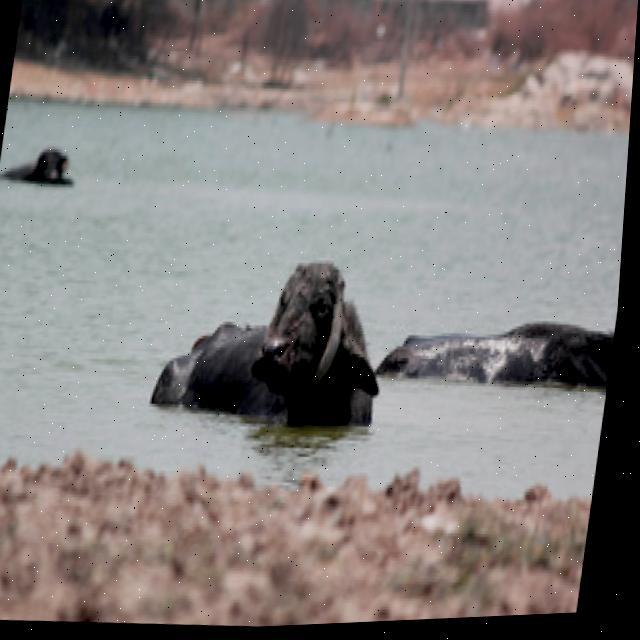Buffalo: (142, 241, 403, 440)
